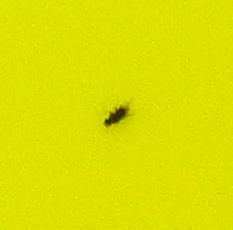Brachycera: (100, 100, 133, 130)
